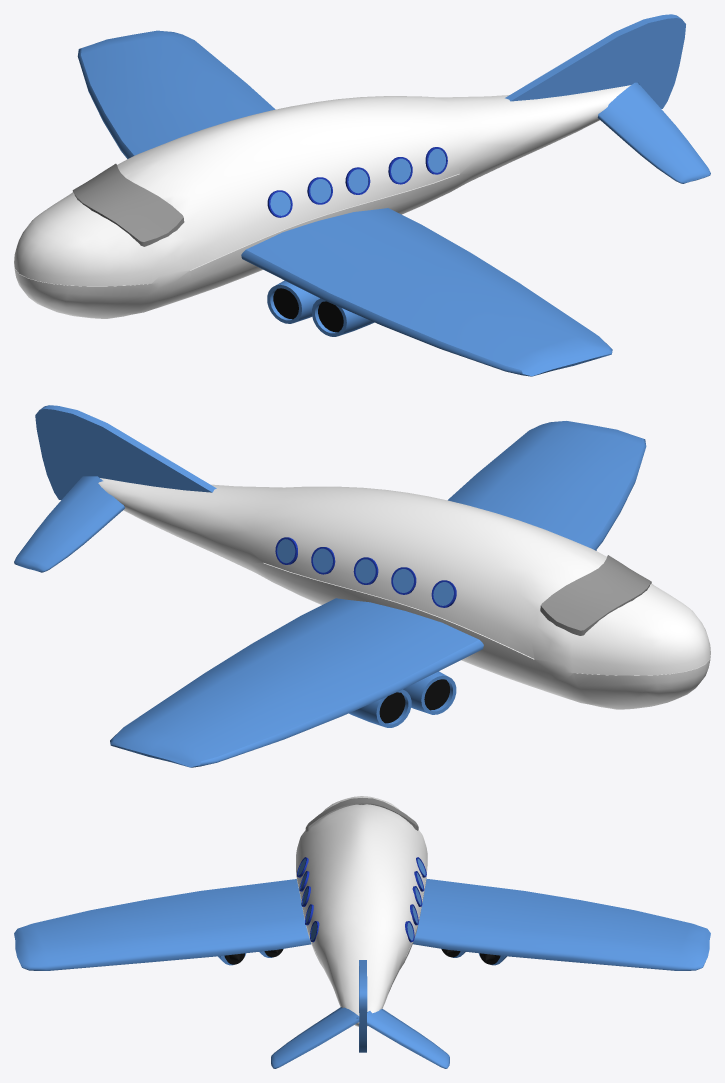
File: Airplane1_2.FBX
3 views of the same model, one above another, from view 1: azimuth 30°, elevation 25°; view 2: azimuth 150°, elevation 25°; view 3: azimuth 270°, elevation 25° (orthographic). The views are drawn at different scales.
Visible parts, largest first — view 1: Airplane; view 2: Airplane; view 3: Airplane.
Boxes of the visible parts, left/top/right/bottom form: Airplane: left=14, top=14, right=710, bottom=376; Airplane: left=14, top=405, right=710, bottom=767; Airplane: left=14, top=796, right=710, bottom=1068.
Size of the model in its own units: 356 by 80.56 by 415.
